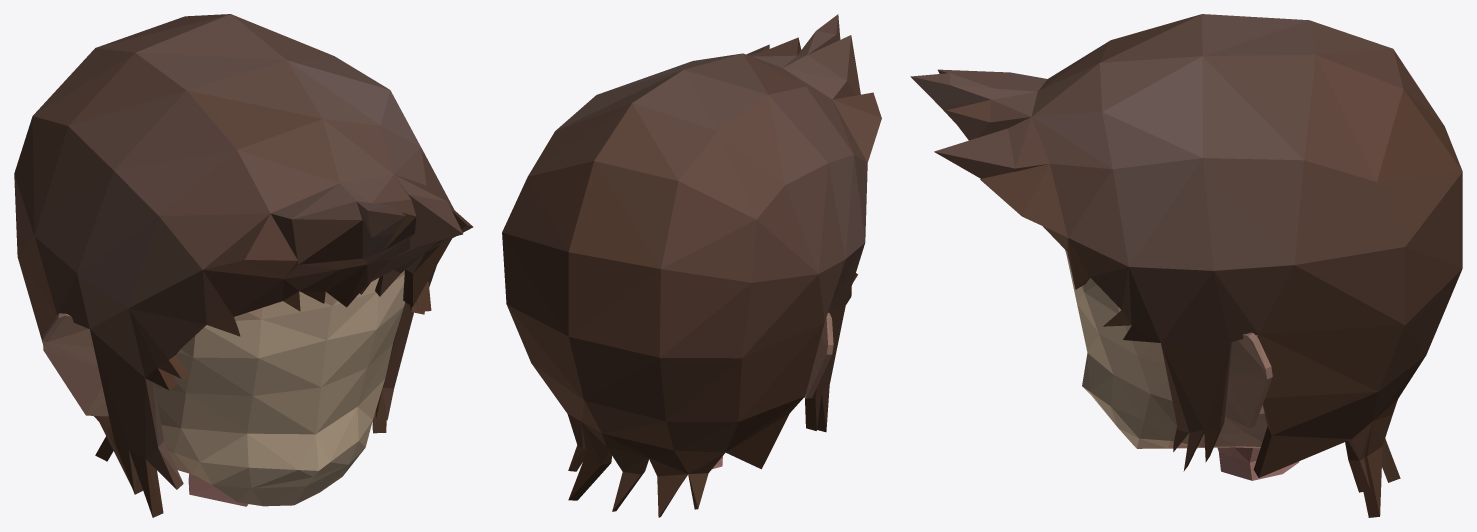
The model's file is helm_lightskin_standard_brown.fbx.
3 views of the same model, side by side, from view 1: azimuth 30°, elevation 25°; view 2: azimuth 150°, elevation 25°; view 3: azimuth 270°, elevation 25° (orthographic). The views are drawn at different scales.
Visible parts, largest first — view 1: helm_lightskin_standard_brown; view 2: helm_lightskin_standard_brown; view 3: helm_lightskin_standard_brown.
Part boxes in pixels (left/top/right/bottom): helm_lightskin_standard_brown: left=14, top=14, right=473, bottom=517; helm_lightskin_standard_brown: left=502, top=14, right=881, bottom=517; helm_lightskin_standard_brown: left=910, top=14, right=1462, bottom=517.
Size of the model in its own units: 1.13 by 1.38 by 1.55.
